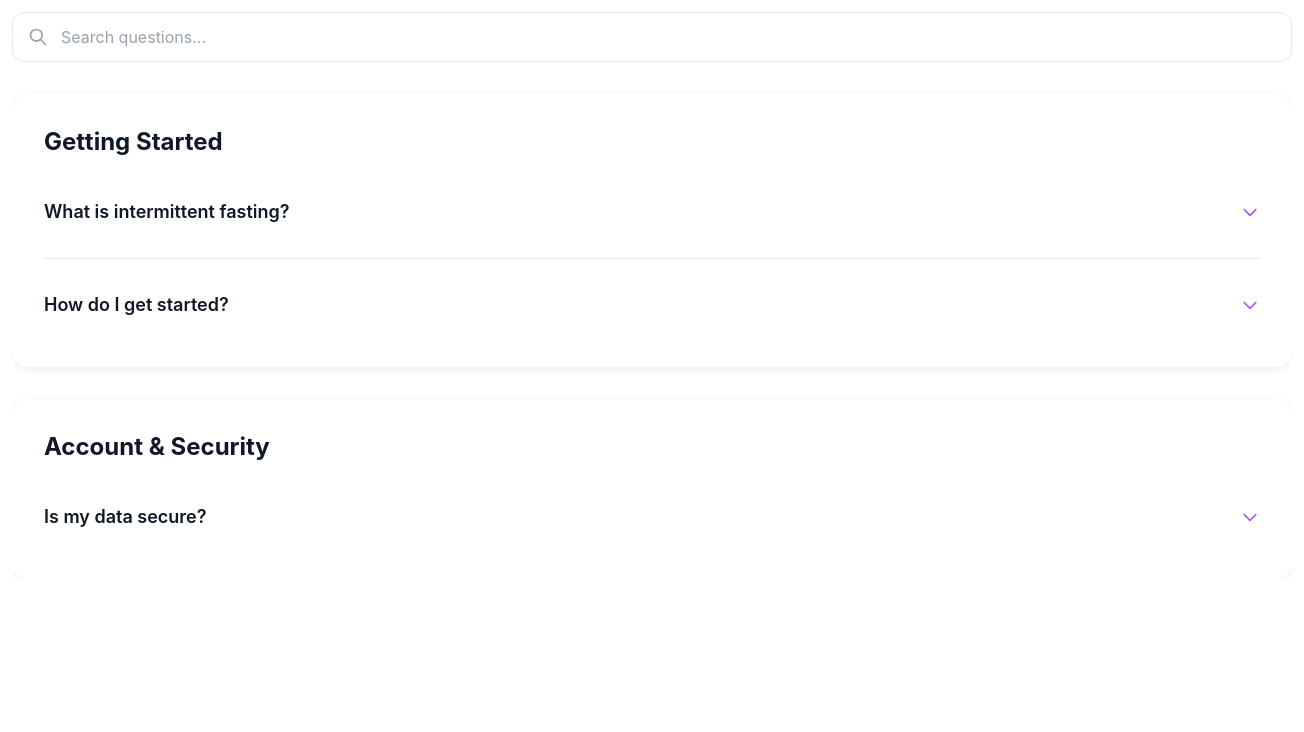
it: FAQList Component › Expand/Collapse Functionality › should only have one FAQ open at a time
Note: Open first question
Click the button "What is intermittent fasting?". click: (167, 212)
box: 44,182 -> 1260,242
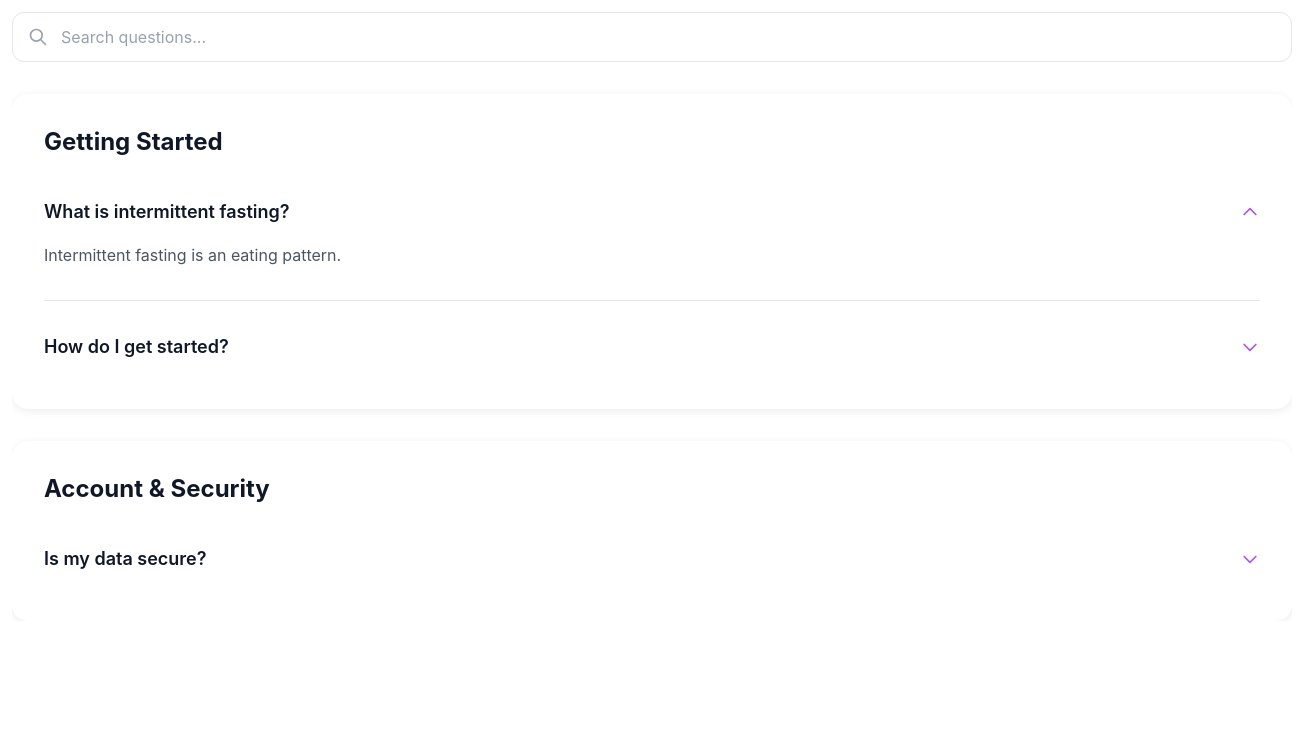
Expected: the text "Intermittent fasting is an eating pattern." is shown, 44,245 -> 341,265
Note: Open second question
Click the button "How do I get started?". click: (136, 346)
box: 44,317 -> 1260,377
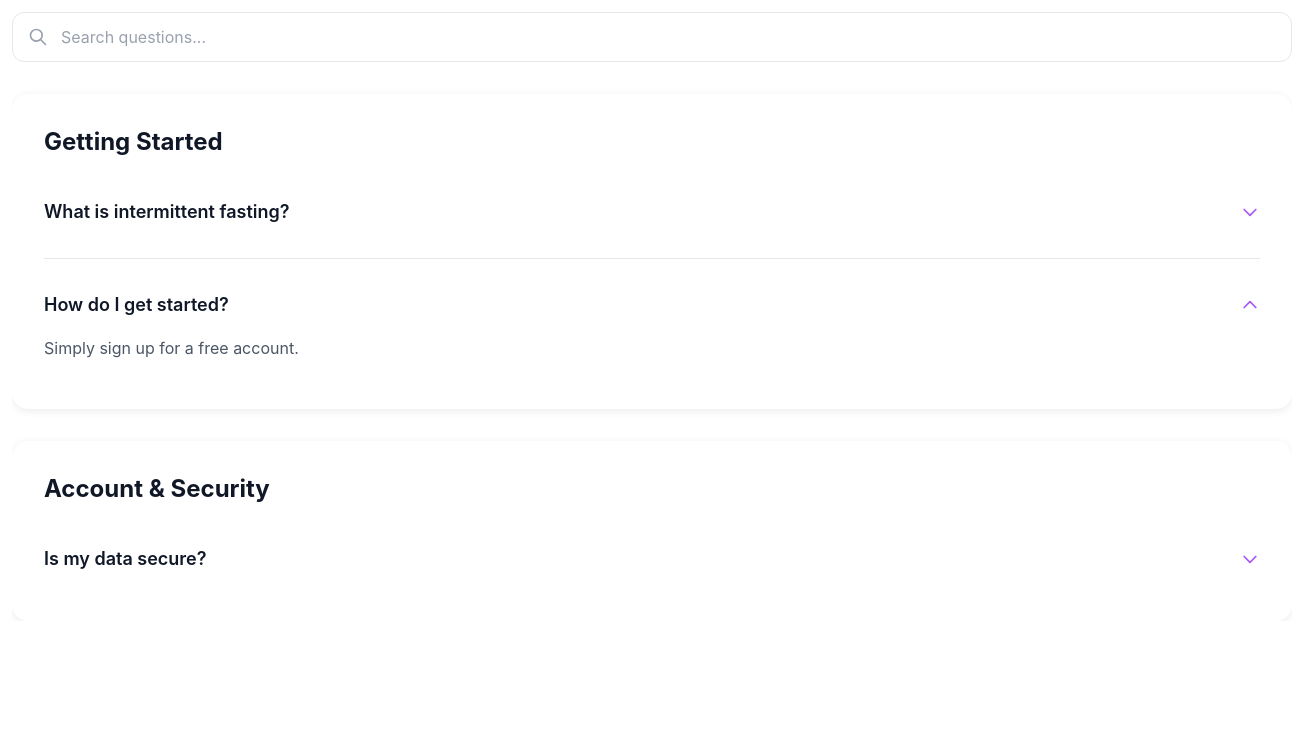
Expected: the text "Simply sign up for a free account." is shown, 44,338 -> 299,358
Expected: the text "Intermittent fasting is an eating pattern." is gone
